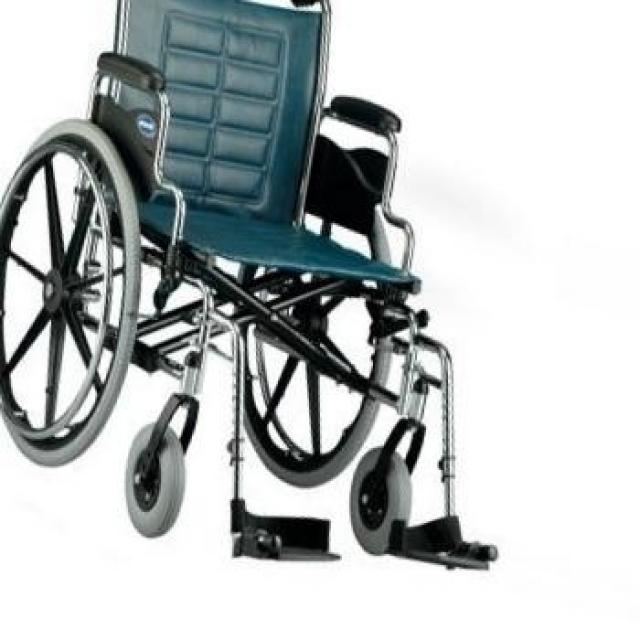wheelchair: (3, 0, 514, 591)
